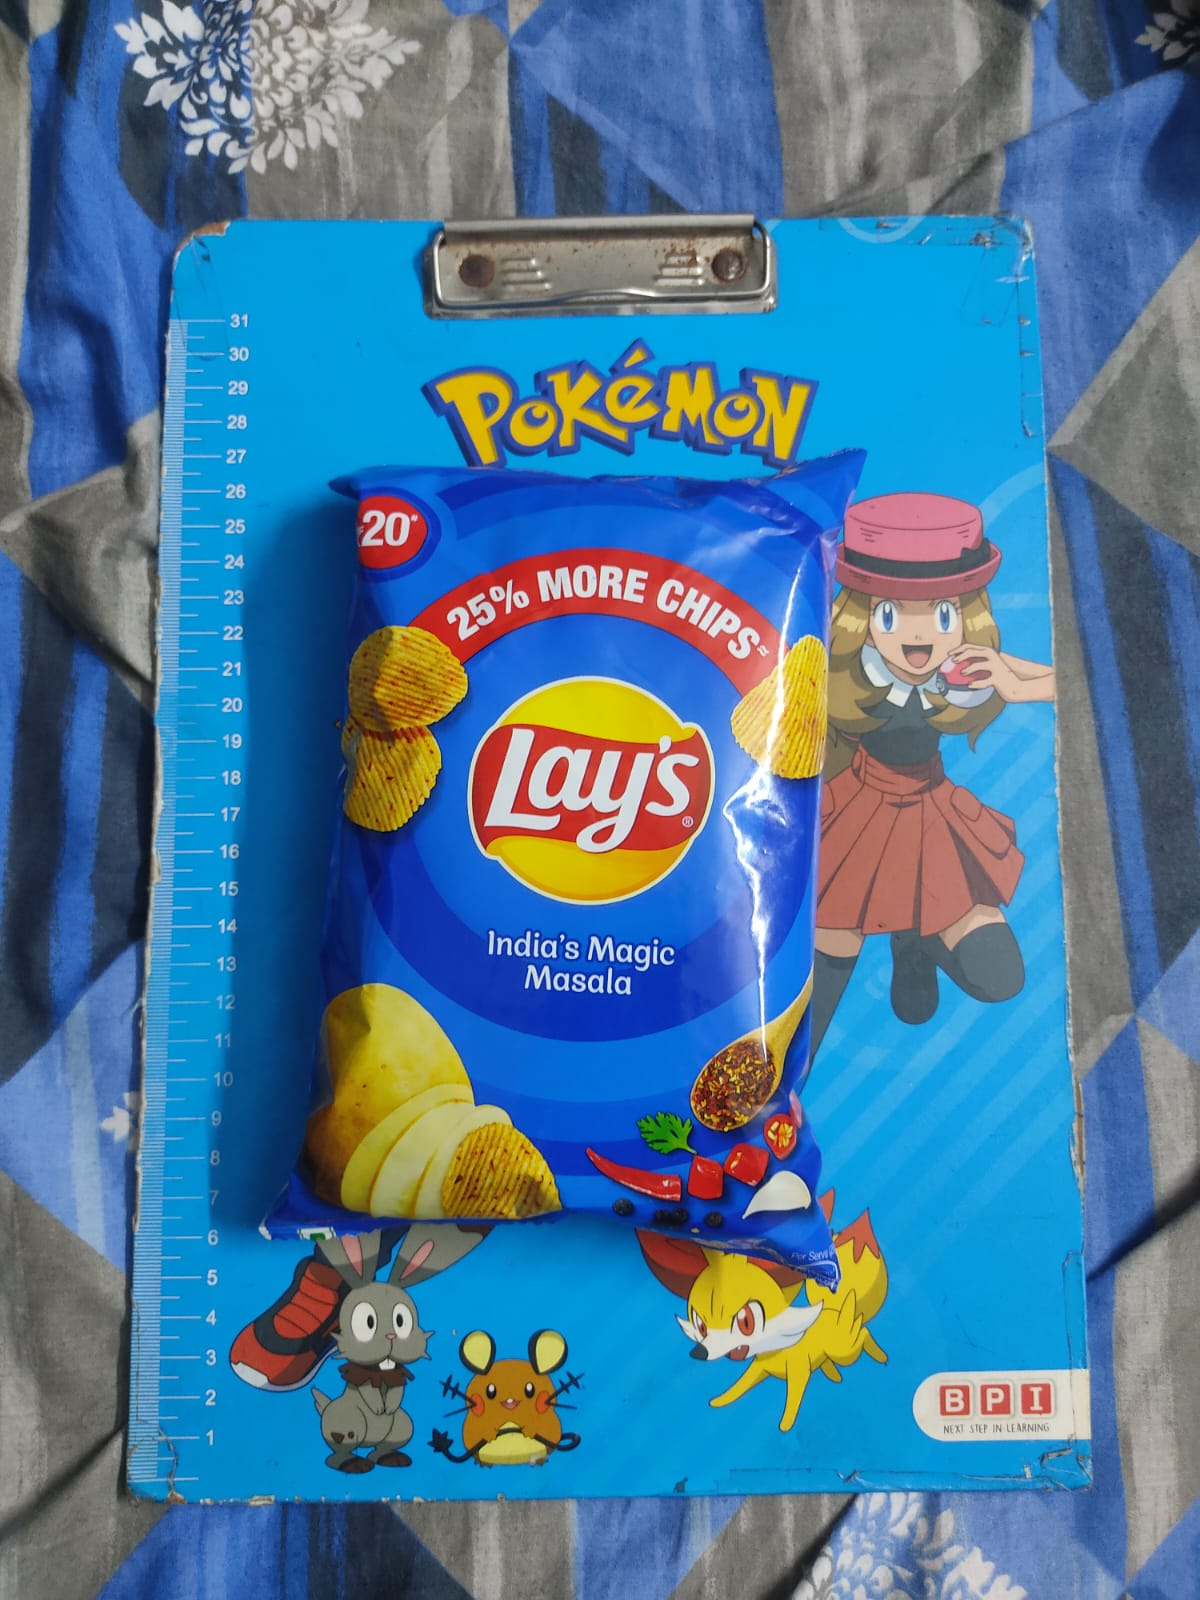020_BlueLays: (281, 456, 857, 1222)
